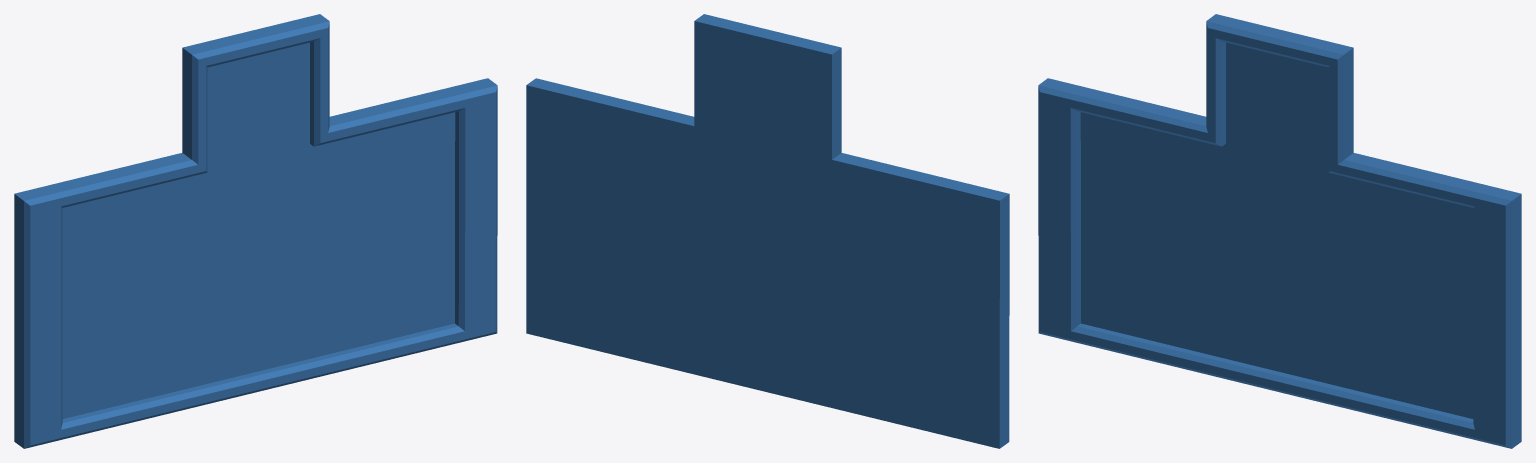
Rendered from Bigmid_box.fbx.
The picture shows the model from 3 angles, left to right: view 1: azimuth 30°, elevation 25°; view 2: azimuth 150°, elevation 25°; view 3: azimuth 330°, elevation 25°; orthographic projection.
Visible parts, largest first — view 1: Bigmid_box; view 2: Bigmid_box; view 3: Bigmid_box.
Boxes of the visible parts, x1,y1,x2,y2 form: Bigmid_box: (14,14,497,448); Bigmid_box: (526,14,1009,448); Bigmid_box: (1038,14,1521,448).
Size of the model in its own units: 679 by 484 by 30.22.
